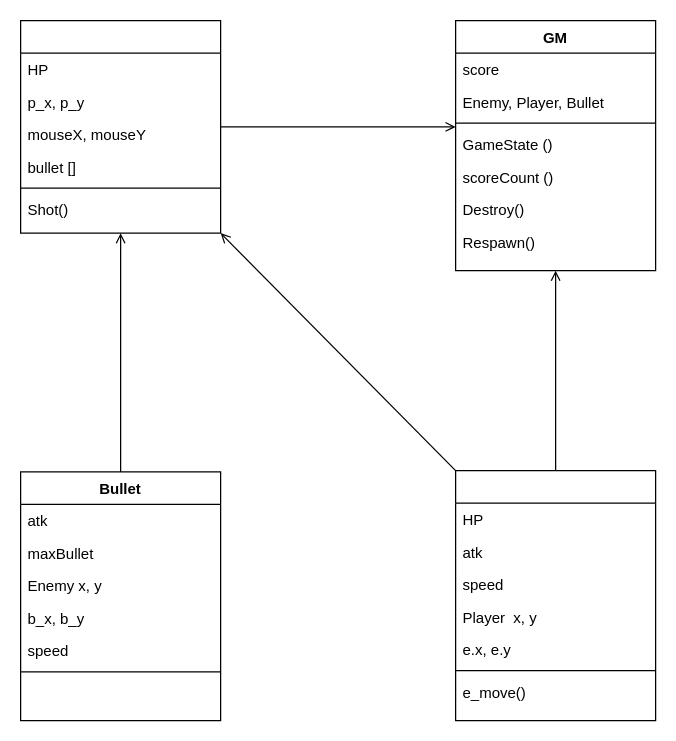
Some shapes in this 676 by 741 pixel diagram are drawn without their labels. The shapes that lost their labels are listed below. From the top down, each one's box as (x1, y1, x2, y2) in pixels, then its label:
(19, 19, 221, 233): Player
(454, 469, 656, 721): Enemy
